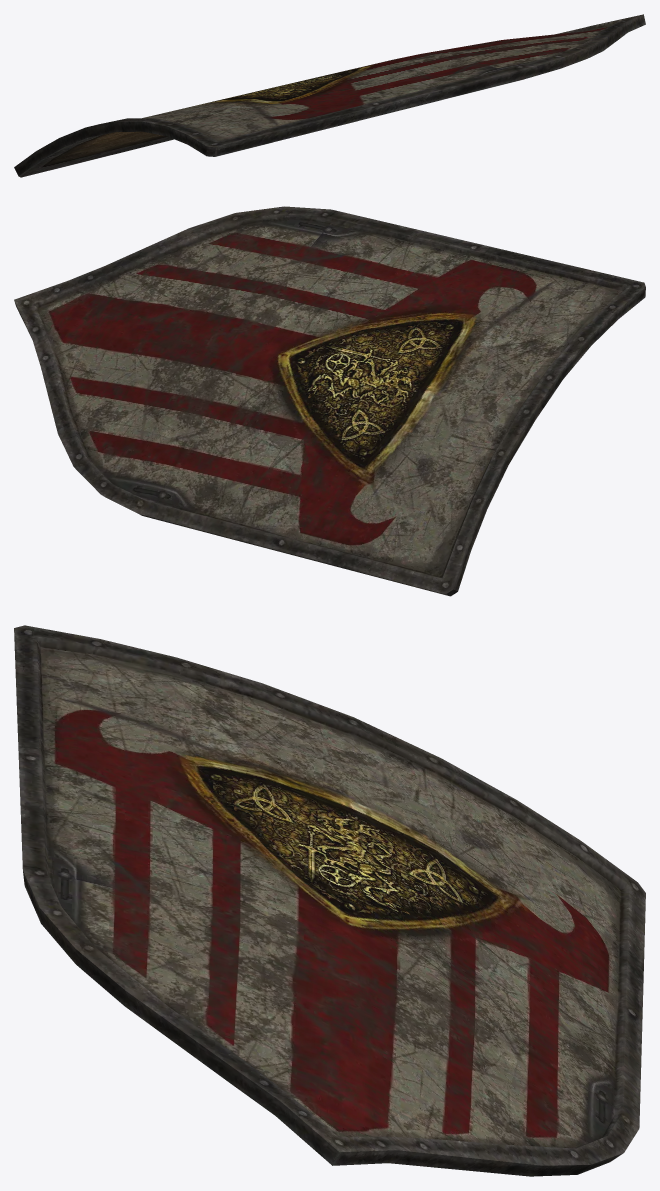
The model's file is SHIELD_A_PALADIN_DECO.glb.
The picture shows the model from 3 angles, top to bottom: view 1: azimuth 30°, elevation 25°; view 2: azimuth 150°, elevation 25°; view 3: azimuth 270°, elevation 25°; orthographic projection. The views are drawn at different scales.
Parts seen in each view (by area): view 1: SHIELD_A_PALADIN_DECO; view 2: SHIELD_A_PALADIN_DECO; view 3: SHIELD_A_PALADIN_DECO.
Part boxes in pixels (left/top/right/bottom): SHIELD_A_PALADIN_DECO: left=14, top=14, right=645, bottom=177; SHIELD_A_PALADIN_DECO: left=14, top=206, right=645, bottom=596; SHIELD_A_PALADIN_DECO: left=14, top=625, right=645, bottom=1176.
Size of the model in its own units: 0.9361 by 0.2885 by 0.6033.
1 material, 1 textured.
